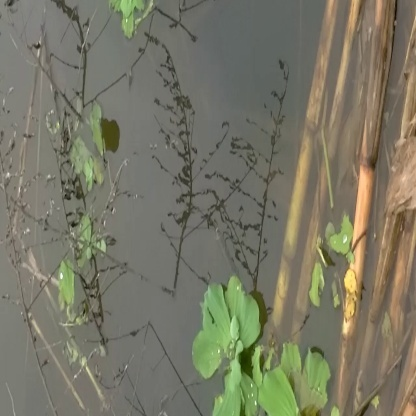leaf: (190, 271, 266, 378)
